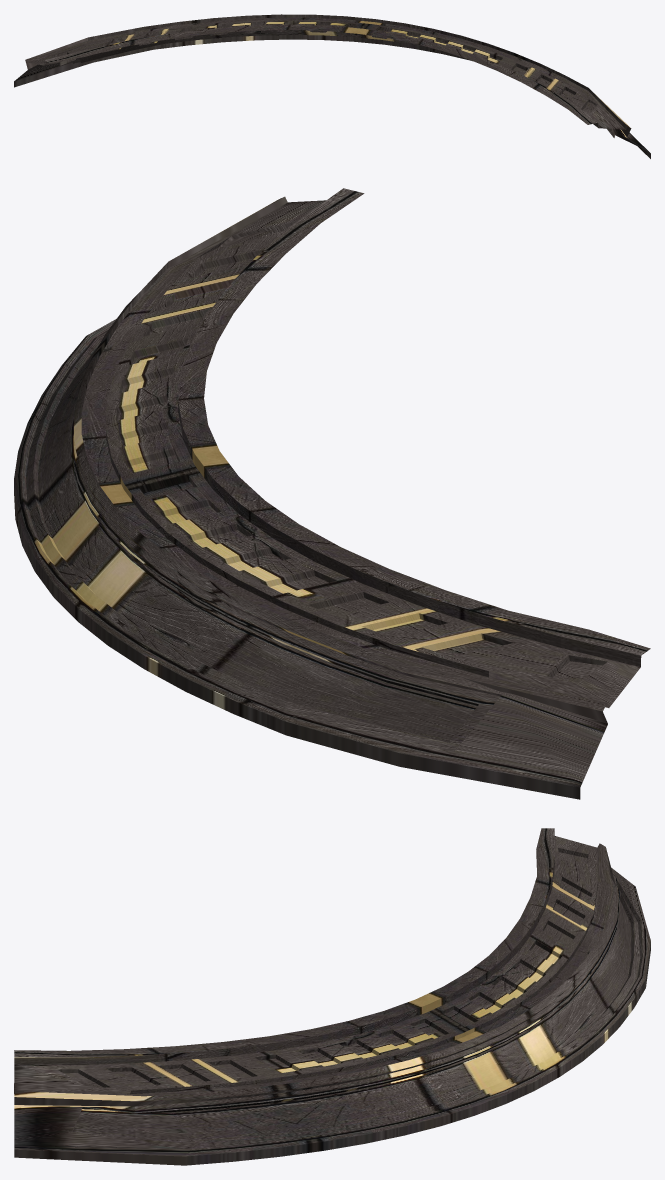
The model's file is Moulding_Metal01_OB.FBX.
The picture shows the model from 3 angles, top to bottom: view 1: azimuth 30°, elevation 25°; view 2: azimuth 150°, elevation 25°; view 3: azimuth 270°, elevation 25°; orthographic projection. The views are drawn at different scales.
Parts seen in each view (by area): view 1: Moulding_90degreeOuterBevel001; view 2: Moulding_90degreeOuterBevel001; view 3: Moulding_90degreeOuterBevel001.
Part boxes in pixels (x1,y1,x2,y2): Moulding_90degreeOuterBevel001: [14, 14, 650, 158]; Moulding_90degreeOuterBevel001: [14, 188, 650, 799]; Moulding_90degreeOuterBevel001: [14, 828, 650, 1165].
Bounding box in the file's own units: 383 × 43.74 × 380.
